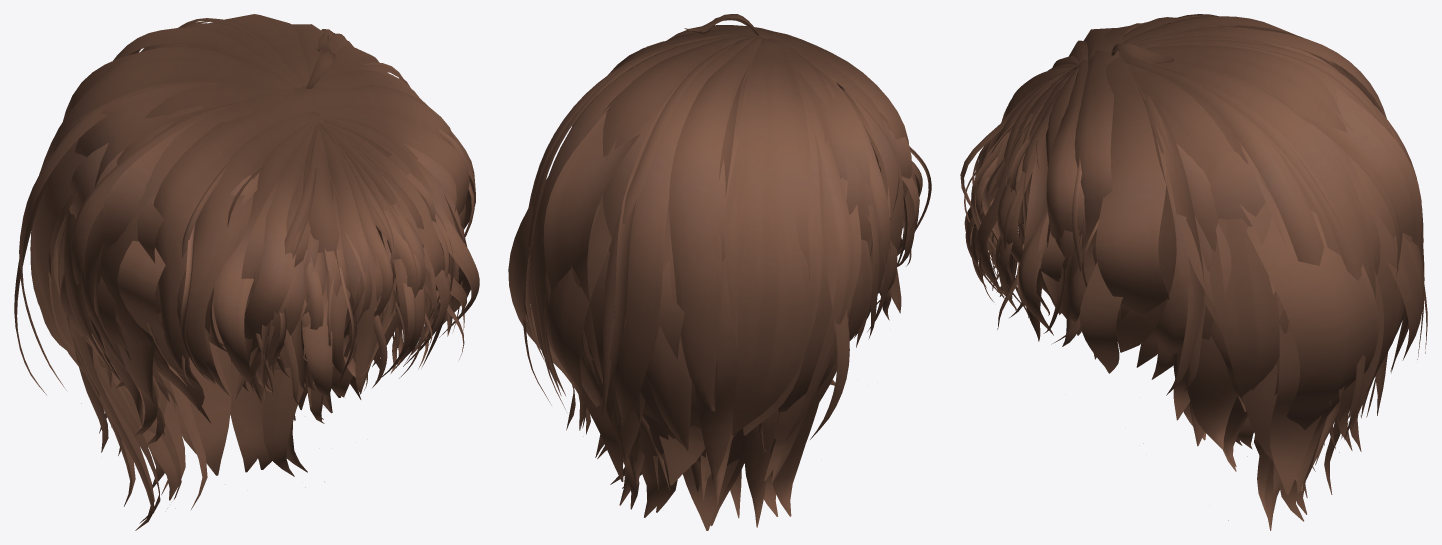
The model's file is vroid_hair_c7v3p.glb.
3 renders of one model, left to right at view 1: azimuth 30°, elevation 25°; view 2: azimuth 150°, elevation 25°; view 3: azimuth 270°, elevation 25°, orthographic. The views are drawn at different scales.
Parts seen in each view (by area): view 1: hair; view 2: hair; view 3: hair.
Boxes of the visible parts, x1,y1,x2,y2 form: hair: [14, 14, 479, 530]; hair: [508, 14, 931, 530]; hair: [960, 14, 1427, 530].
Bounding box in the file's own units: 0.2138 × 0.2739 × 0.2478.
1 material, 1 textured.
